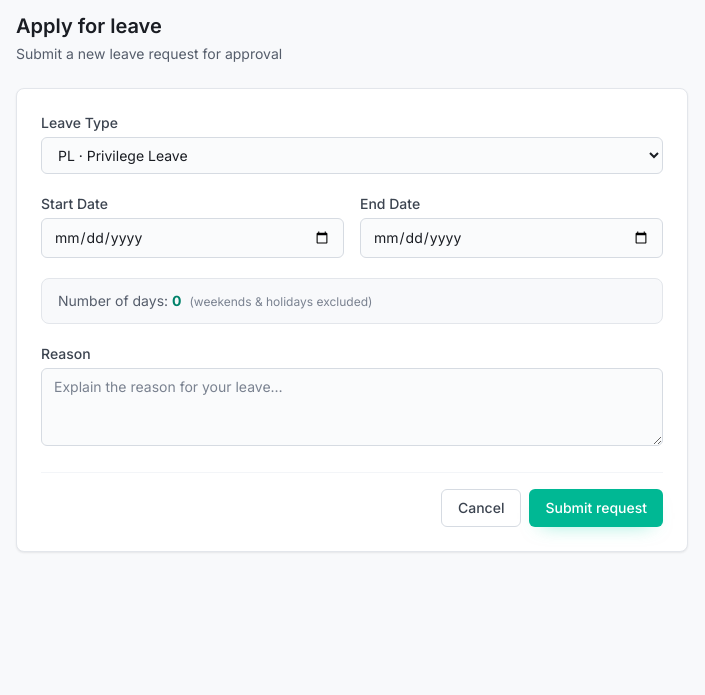
Test: ApplyLeavePage - HPE Holiday to Use › blocks submission when no HPE Holiday is selected
Select "CO · Compensatory Off" in the dropdown labelled "Leave Type". click: [352, 156]
box: [41,137,663,174]
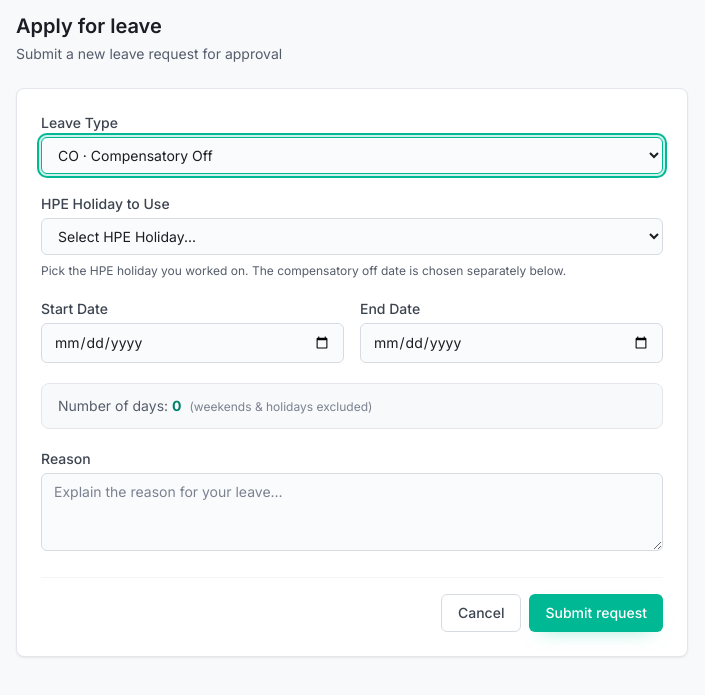
Type "2026-10-05" into the date field labelled "Start Date". click: [192, 343]
box: [41,323,344,363]
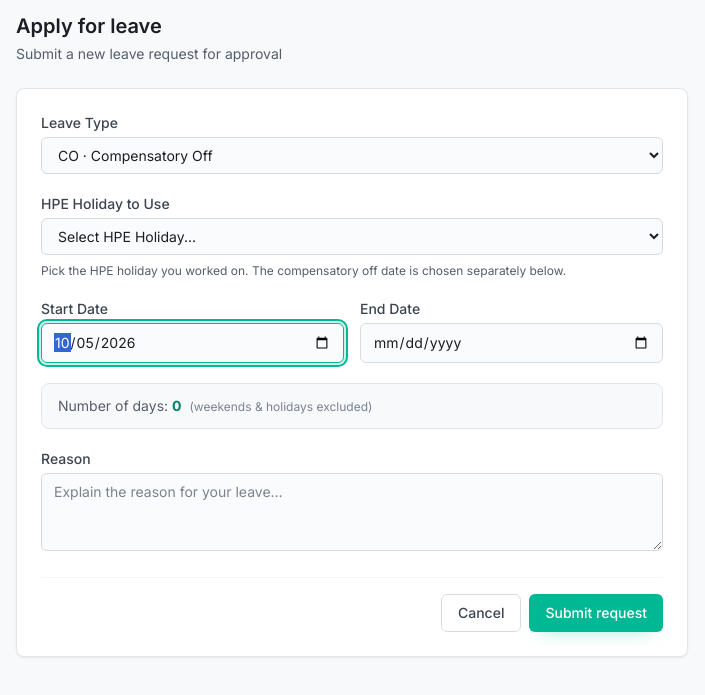
Type "2026-10-05" into the date field labelled "End Date". click: [512, 343]
box: [360,323,663,363]
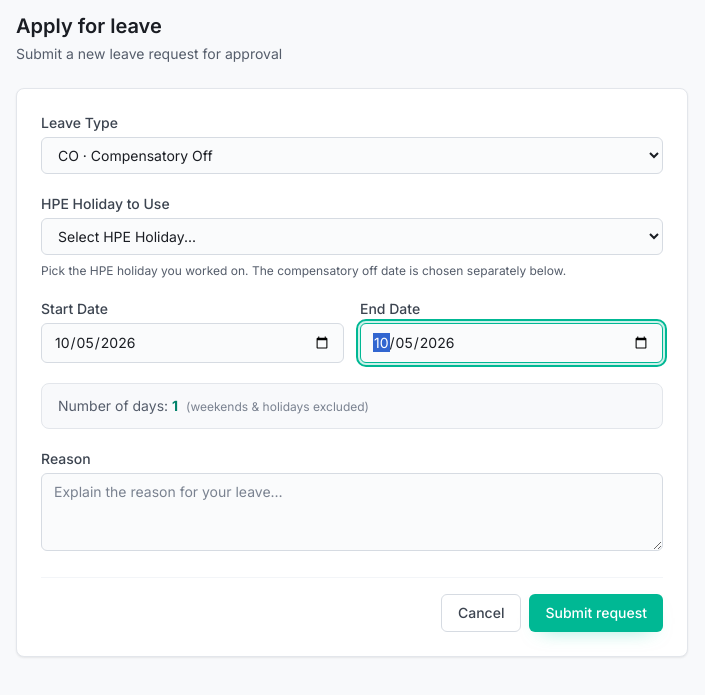
Type "worked on the HPE holiday" into the text box labelled "Reason". click: [352, 512]
box: [41,473,663,551]
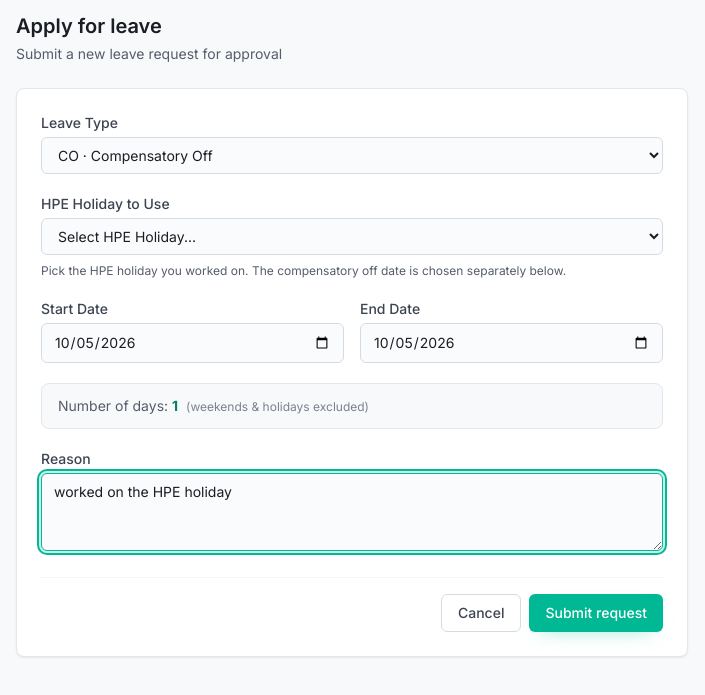
Click the button "Submit request". click: [596, 613]
box: [529,594,663,632]
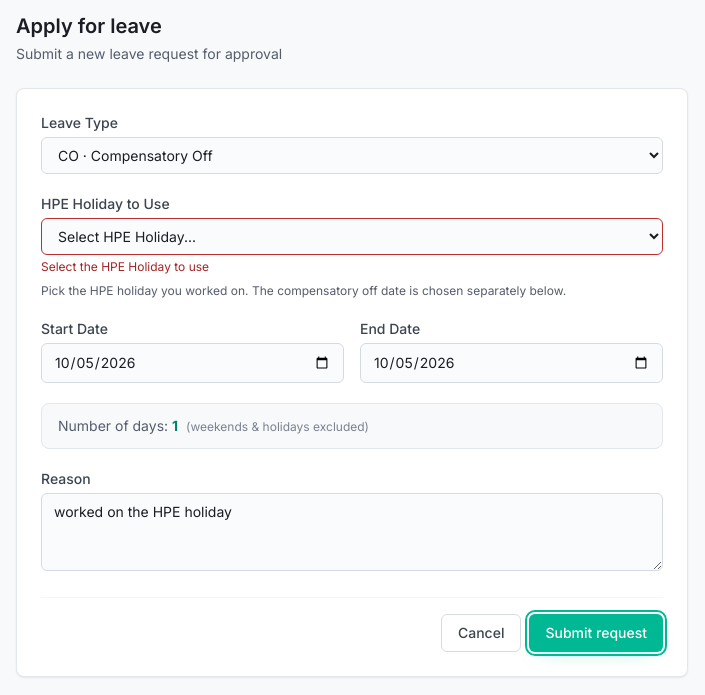
Check: the dropdown labelled "HPE Holiday to Use" is shown, box [41,218,663,255]
Check: the text "Select the HPE Holiday to use" is shown, box [41,259,209,274]
